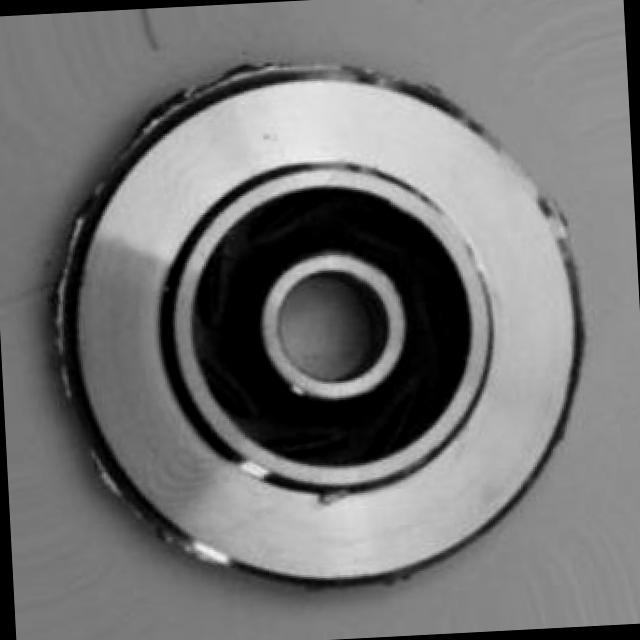Defect: (88, 450, 132, 503)
